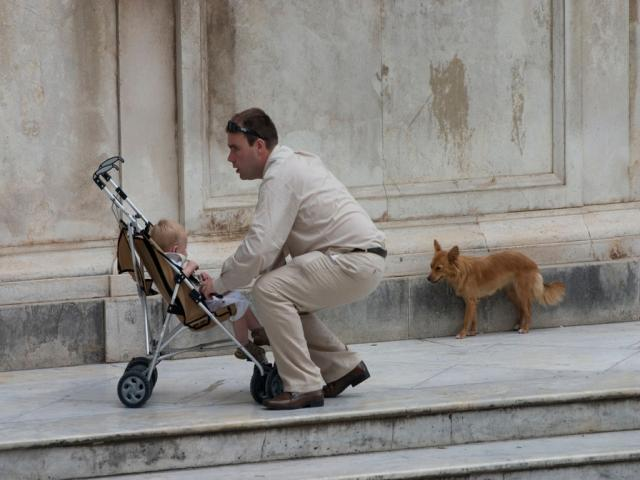Dog: (427, 238, 568, 335)
